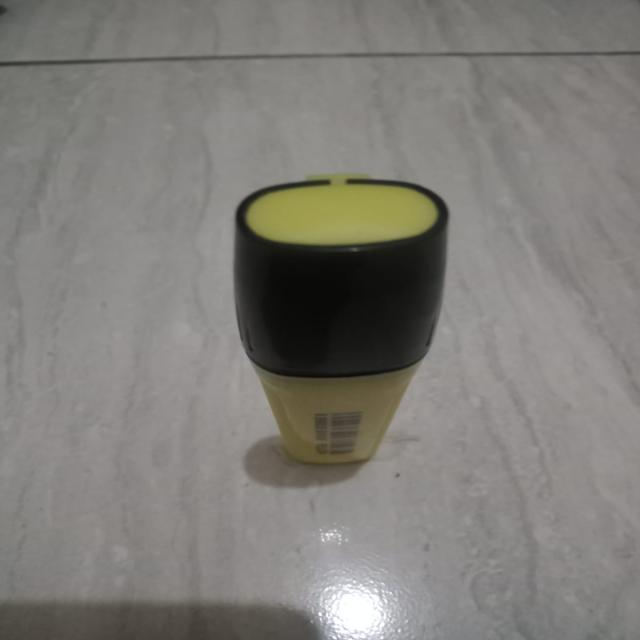highlighter: (202, 158, 490, 494)
